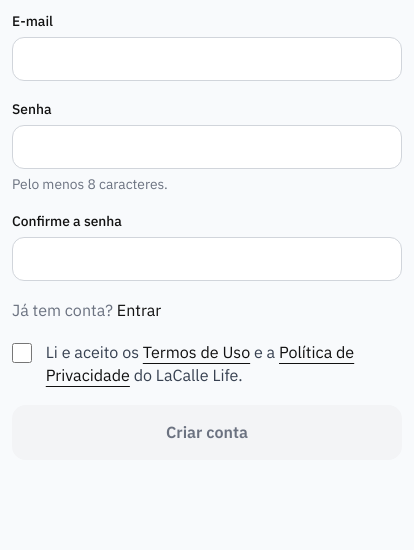
Test: SignupForm — aceite dos Termos e da Política › não cria conta sem aceite nem por um envio que não passa pelo botão
The width and height of the screenshot is (414, 550).
Type "a@b.com" into the field labelled "E-mail" at (207, 59), box [12,37,402,81]
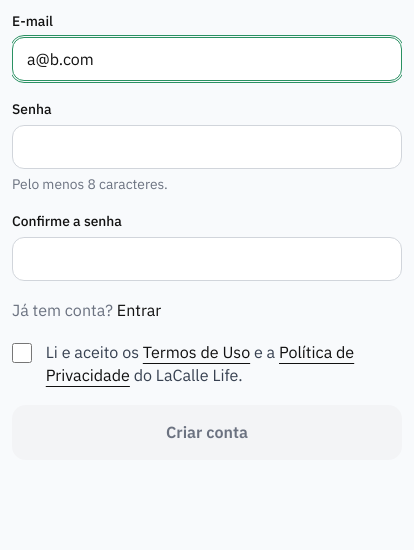
Type "12345678" into the password field labelled "Senha" at (207, 147), box [12,125,402,169]
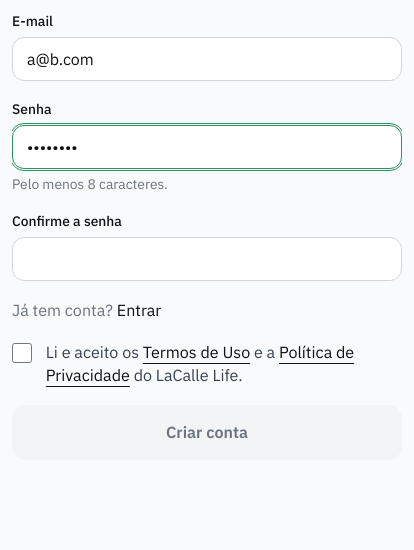
Type "12345678" into the password field labelled "Confirme a senha" at (207, 259), box [12,237,402,281]
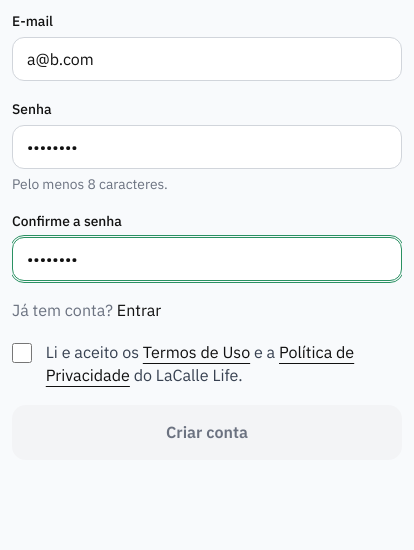
Submit the form named "Criar conta"
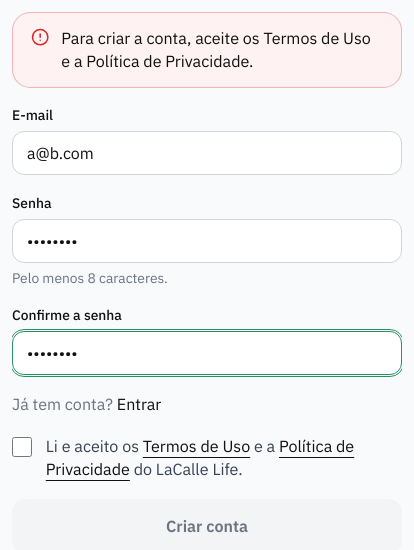
Now the text "Para criar a conta, aceite os Termos de Uso e a Política de Privacidade." is shown, box [61,27,383,73]
